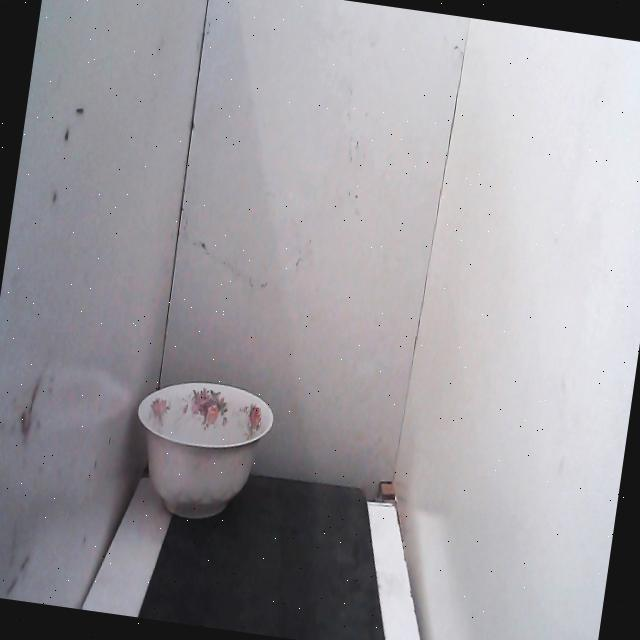plastico: (116, 342, 288, 539)
